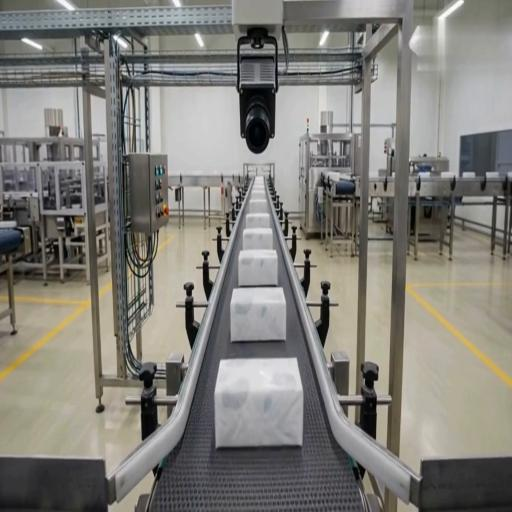good: (215, 357, 302, 449), (230, 287, 288, 343), (237, 249, 279, 288), (242, 227, 274, 251), (244, 212, 272, 230), (246, 197, 270, 214), (248, 188, 269, 202), (250, 176, 266, 186), (327, 172, 342, 182), (486, 171, 500, 178), (441, 171, 456, 177), (462, 172, 476, 178)
